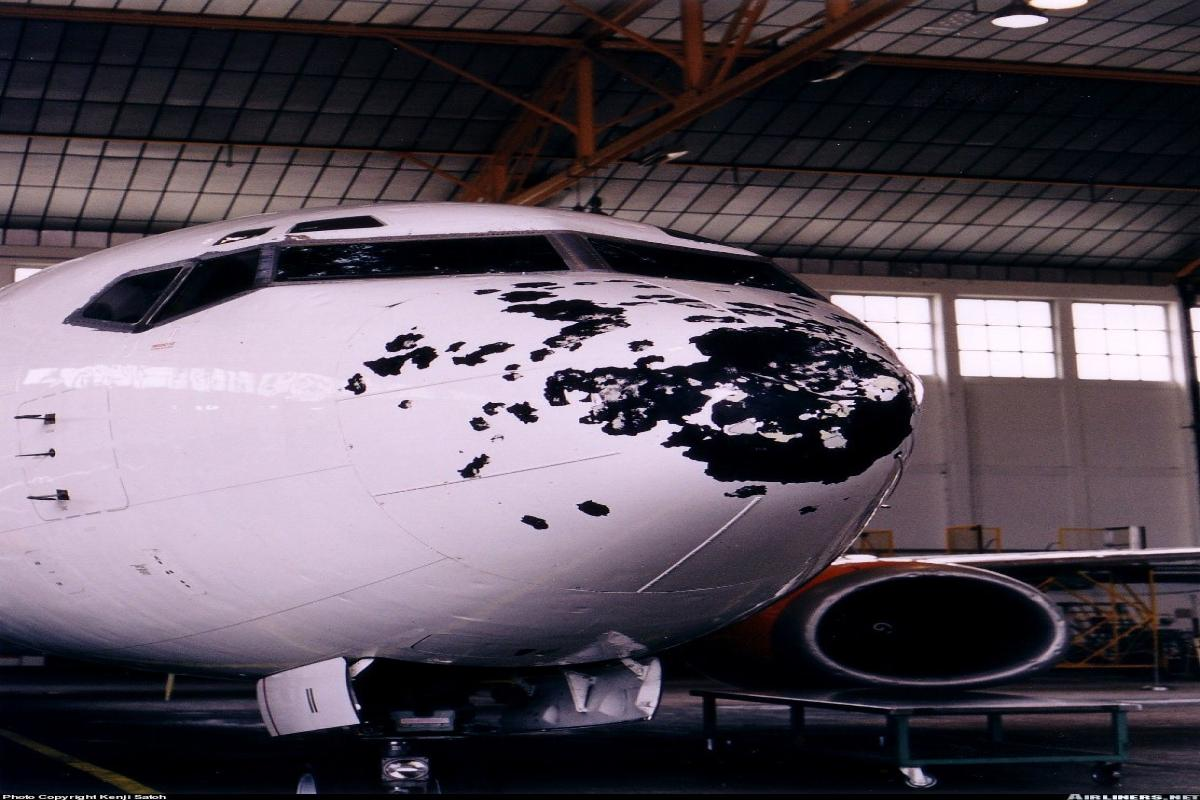Fuselage_damage: (291, 283, 946, 540)
